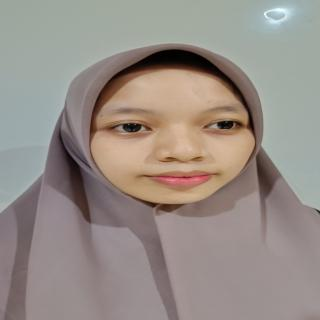Netral: (87, 58, 265, 208)
